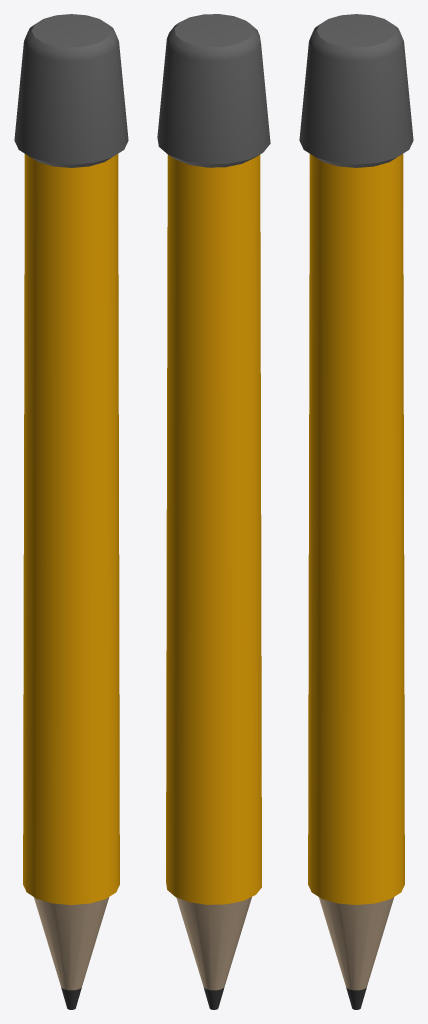
Rendered from Pen04.fbx.
3 renders of one model, left to right at view 1: azimuth 90°, elevation 25°; view 2: azimuth 150°, elevation 25°; view 3: azimuth 270°, elevation 25°, orthographic.
Parts seen in each view (by area): view 1: Pen04; view 2: Pen04; view 3: Pen04.
Boxes of the visible parts, left/top/right/bottom form: Pen04: left=14, top=14, right=128, bottom=1009; Pen04: left=157, top=14, right=270, bottom=1009; Pen04: left=299, top=14, right=413, bottom=1009.
Size of the model in its own units: 0.0125 by 0.0125 by 0.1186.
